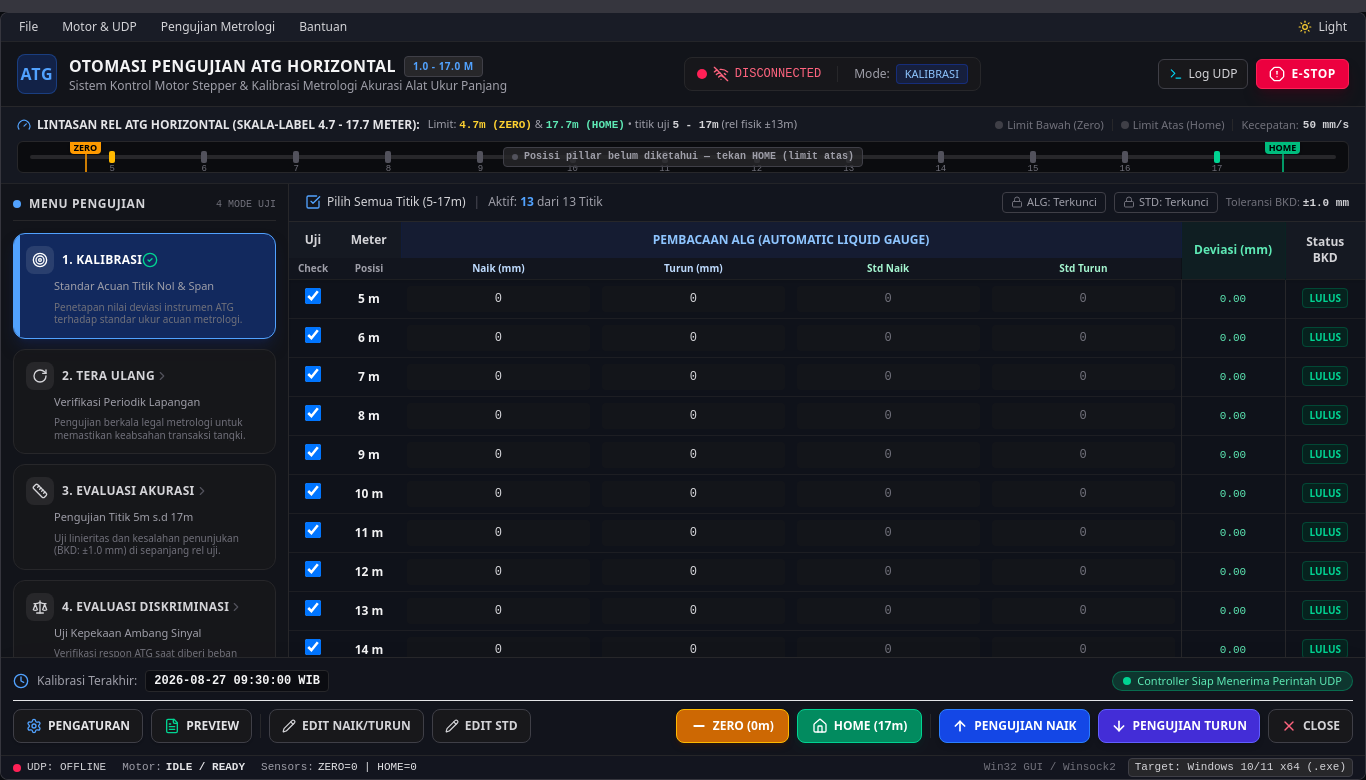
App — auto-reconnect › tidak auto-reconnect setelah diputus secara manual
Note: Hubungkan manual → sudah terhubung
Click the button with id "btn-toggle-tcp".
click(759, 74)  # box [697,66,821,82]
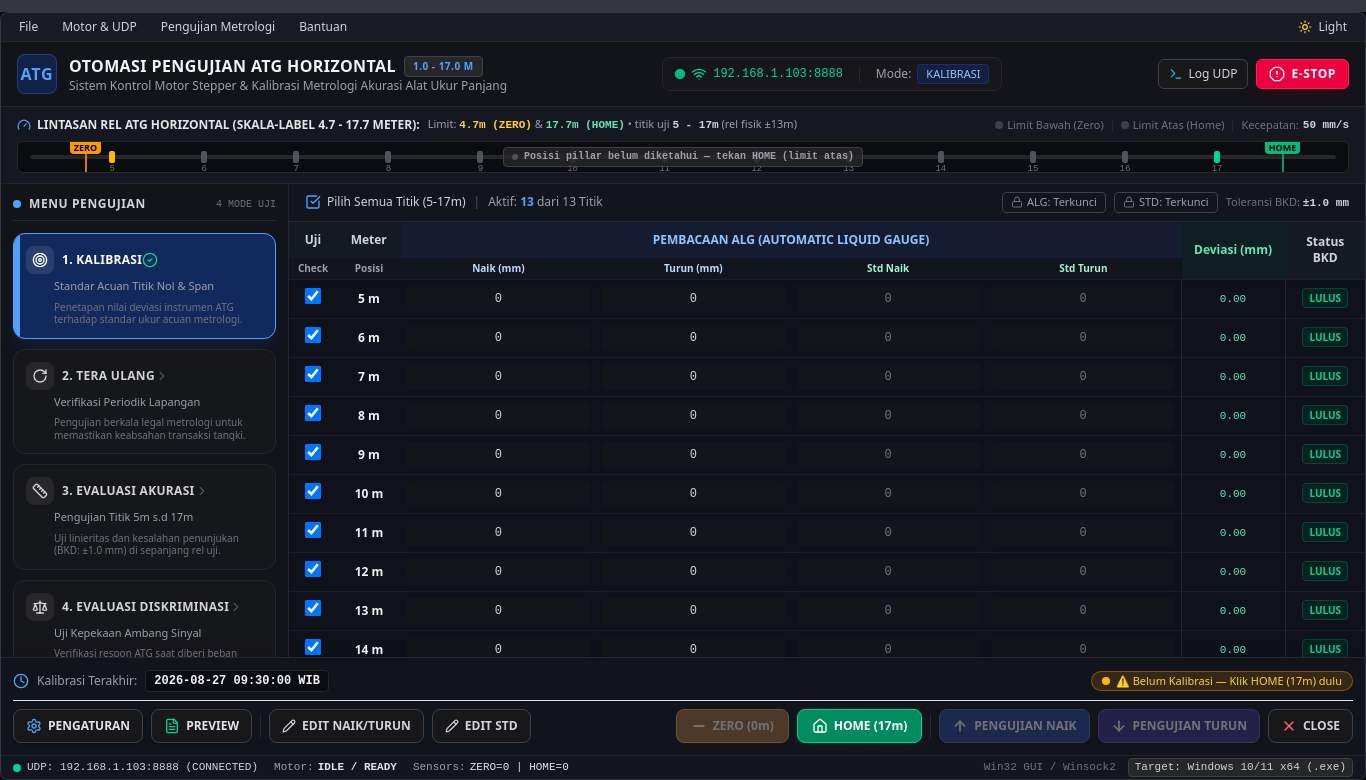
Check: the button with id "btn-toggle-tcp" reads "192.168.1.103:8888"
Note: Putus manual
Click the button with id "btn-toggle-tcp".
click(759, 74)  # box [675,66,843,82]
Wait 5000 ms
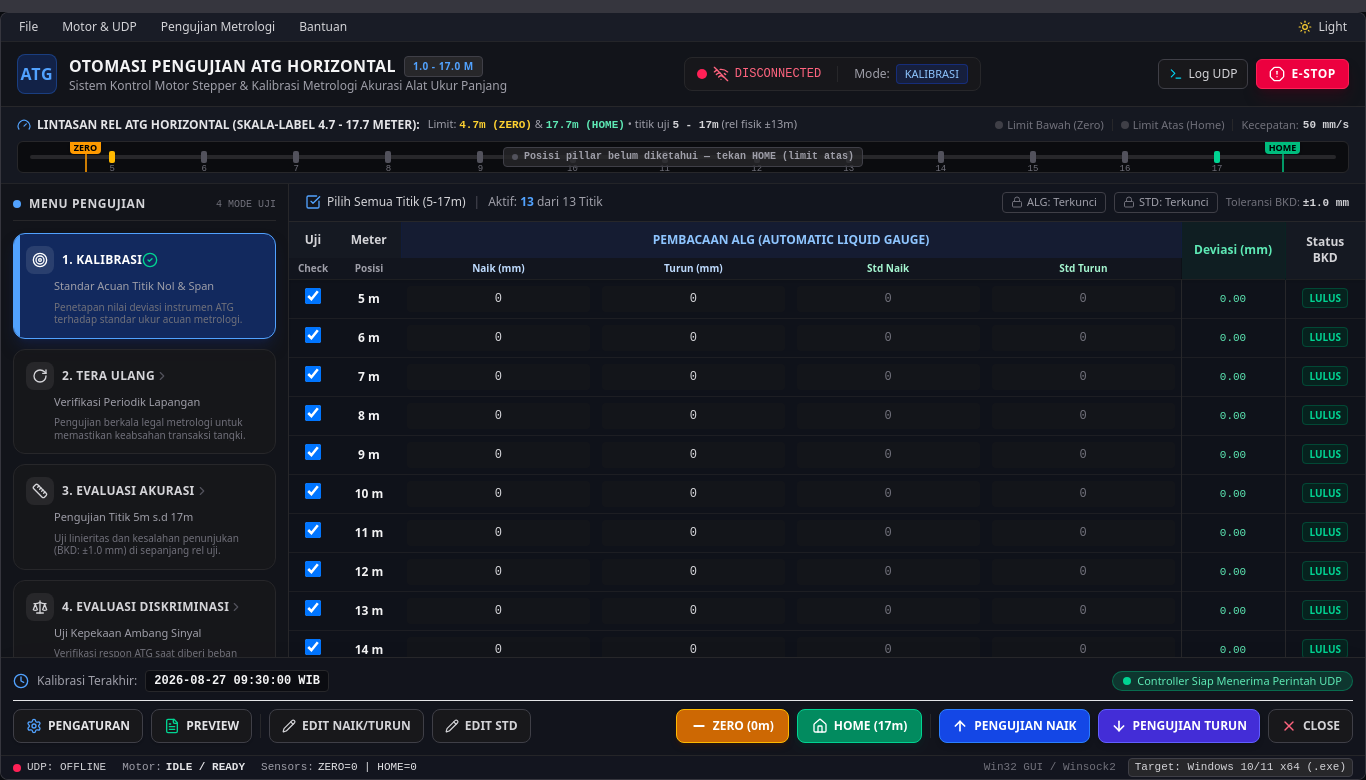
Check: the button with id "btn-toggle-tcp" reads "DISCONNECTED", box [697,66,821,82]
